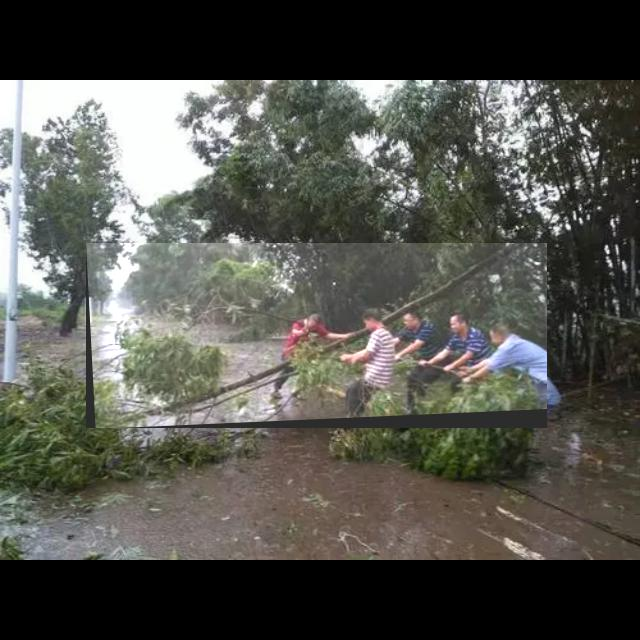Fallen Tree: (86, 243, 548, 429)
